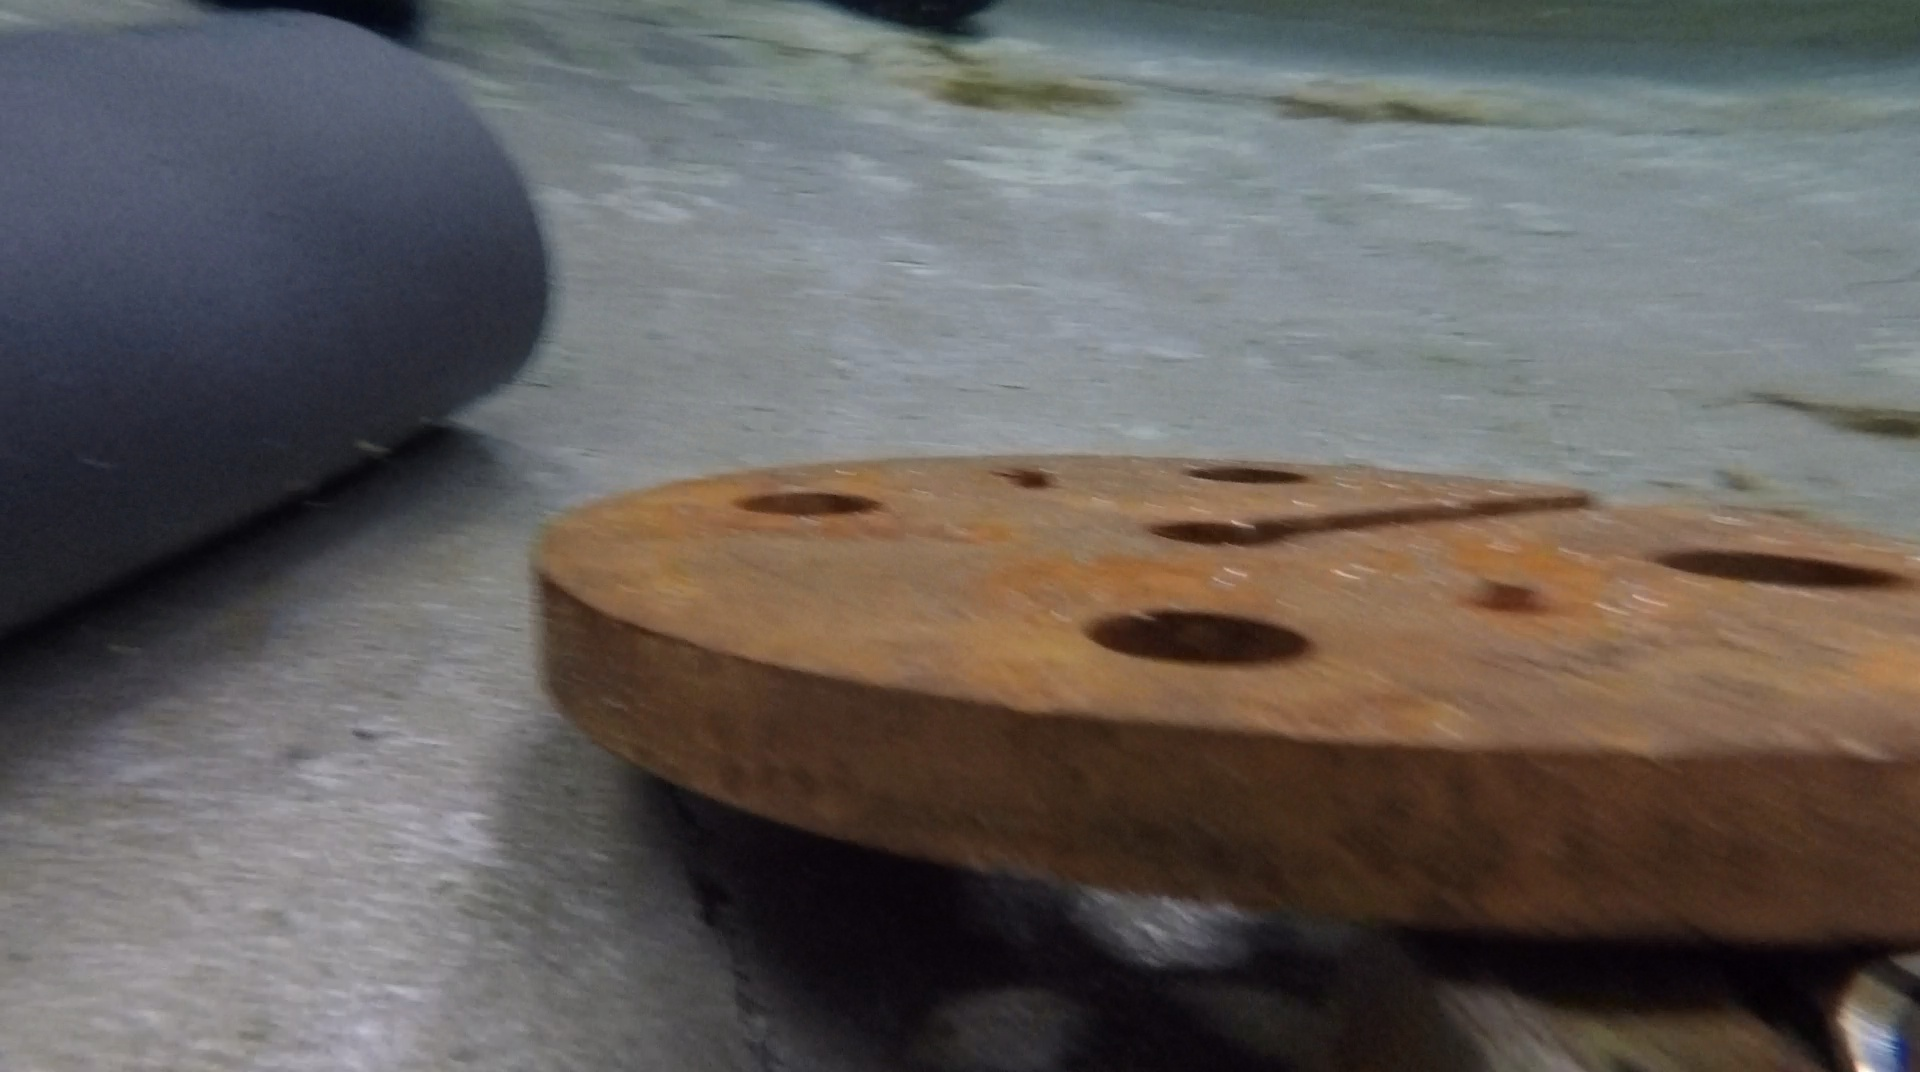flange: (531, 455, 1920, 949)
pipe: (1, 9, 550, 637)
